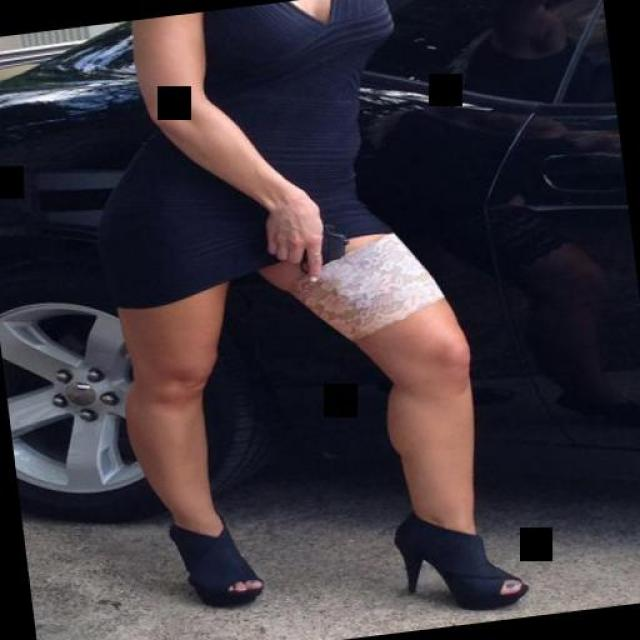gun: (275, 219, 359, 280)
